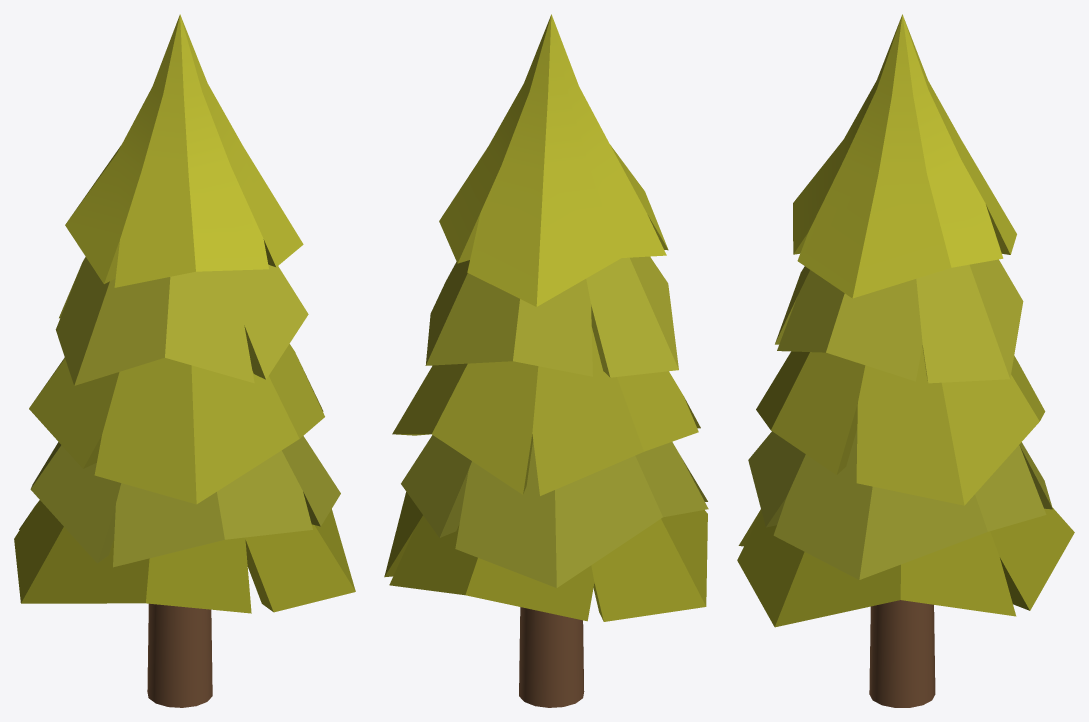
File: Spruce_Yellow_3.fbx
3 renders of one model, left to right at view 1: azimuth 30°, elevation 25°; view 2: azimuth 150°, elevation 25°; view 3: azimuth 270°, elevation 25°, orthographic.
Visible parts, largest first — view 1: Cylinder.357, Cylinder.356, Cylinder.355, Cylinder.353, Cylinder.354, Cylinder.352; view 2: Cylinder.357, Cylinder.356, Cylinder.354, Cylinder.355, Cylinder.353, Cylinder.352; view 3: Cylinder.357, Cylinder.356, Cylinder.354, Cylinder.355, Cylinder.353, Cylinder.352.
Boxes of the visible parts, bbox=[...] form: Cylinder.357: bbox=[65, 14, 303, 287]; Cylinder.356: bbox=[29, 344, 324, 504]; Cylinder.355: bbox=[55, 257, 308, 385]; Cylinder.353: bbox=[14, 500, 355, 613]; Cylinder.354: bbox=[30, 436, 340, 567]; Cylinder.352: bbox=[147, 603, 212, 707]; Cylinder.357: bbox=[439, 14, 668, 306]; Cylinder.356: bbox=[392, 327, 700, 495]; Cylinder.354: bbox=[401, 435, 708, 587]; Cylinder.355: bbox=[425, 256, 678, 377]; Cylinder.353: bbox=[384, 492, 707, 621]; Cylinder.352: bbox=[519, 607, 584, 707]; Cylinder.357: bbox=[793, 14, 1016, 298]; Cylinder.356: bbox=[756, 346, 1045, 505]; Cylinder.354: bbox=[748, 429, 1052, 579]; Cylinder.355: bbox=[775, 259, 1023, 383]; Cylinder.353: bbox=[737, 507, 1074, 627]; Cylinder.352: bbox=[869, 600, 935, 707].
Bounding box in the file's own units: 265 × 567 × 255.
